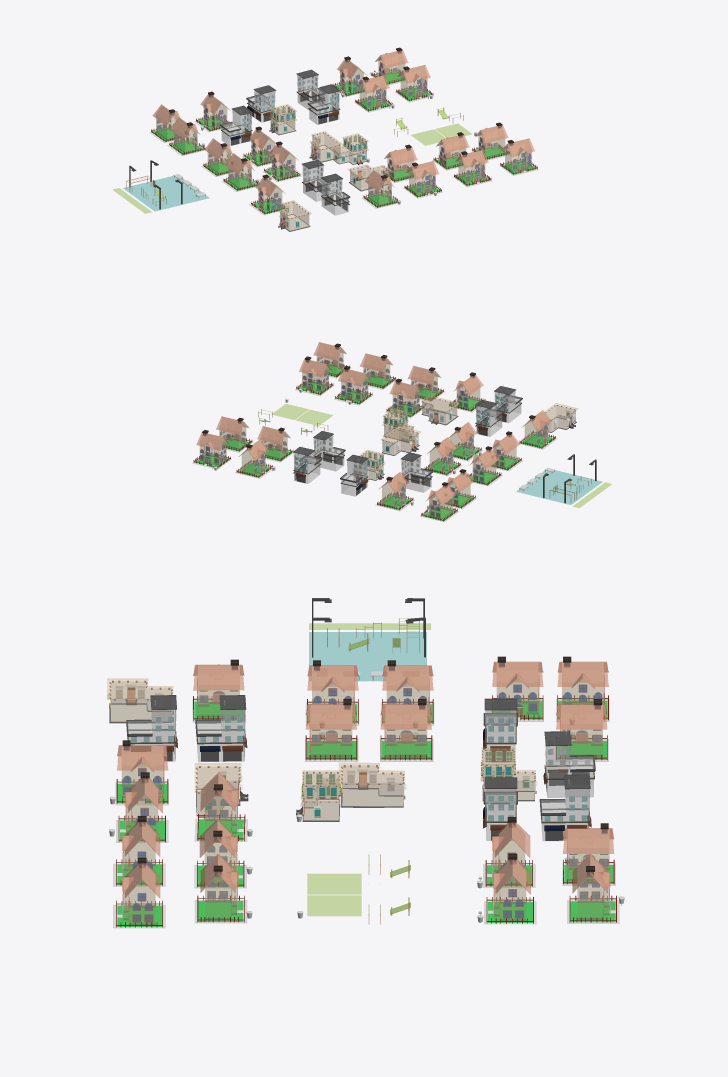
File: City.glb
3 views of the same model, one above another, from view 1: azimuth 30°, elevation 25°; view 2: azimuth 150°, elevation 25°; view 3: azimuth 270°, elevation 25° (orthographic). The views are drawn at different scales.
Parts seen in each view (by area): view 1: Cube.703, Cube.019_Cube.013, Cube.019_Cube.002, Cube.019_Cube.000, Cube.019_Cube.012, Cube.019_Cube.014, Cube_Cube.007, Cube.019_Cube.011, Cube.019_Cube.010, Cube.019_Cube.007, Cube.019_Cube.005, Cube.019_Cube.015 (+20 smaller); view 2: Cube.703, Cube.019_Cube.020, Cube.019_Cube.001, Cube.019_Cube.011, Cube.019_Cube.016, Cube_Cube.000, Cube_Cube.003, Cube.019_Cube.013, Cube.019_Cube.017, Cube.019_Cube.009, Cube.019_Cube.003, Cube.019_Cube.008 (+20 smaller); view 3: Cube.703, Cube.019_Cube.007, Cube.019_Cube.006, Cube.019_Cube.012, Cube.019_Cube.000, Cube_Cube.006, Cube.019_Cube.011, Cube.019_Cube.001, Cube.019_Cube.008, Cube.019_Cube.010, Cube.019_Cube.017, Cube.019_Cube.015 (+20 smaller).
Boxes of the visible parts, bbox=[...] form: Cube.703: bbox=[112, 175, 209, 213]; Cube.019_Cube.013: bbox=[453, 150, 491, 187]; Cube.019_Cube.002: bbox=[354, 75, 392, 112]; Cube.019_Cube.000: bbox=[395, 65, 433, 102]; Cube.019_Cube.012: bbox=[499, 138, 538, 175]; Cube.019_Cube.014: bbox=[403, 161, 442, 198]; Cube_Cube.007: bbox=[320, 173, 350, 215]; Cube.019_Cube.011: bbox=[471, 122, 509, 160]; Cube.019_Cube.010: bbox=[167, 117, 205, 155]; Cube.019_Cube.007: bbox=[263, 141, 301, 181]; Cube.019_Cube.005: bbox=[222, 153, 259, 191]; Cube.019_Cube.015: bbox=[362, 170, 397, 208]; Cube.703: bbox=[516, 470, 611, 507]; Cube.019_Cube.020: bbox=[334, 366, 372, 405]; Cube.019_Cube.001: bbox=[192, 430, 231, 469]; Cube.019_Cube.011: bbox=[295, 356, 333, 395]; Cube.019_Cube.016: bbox=[386, 378, 423, 418]; Cube_Cube.000: bbox=[313, 431, 345, 471]; Cube_Cube.003: bbox=[401, 452, 433, 492]; Cube.019_Cube.013: bbox=[360, 353, 396, 389]; Cube.019_Cube.017: bbox=[518, 410, 556, 449]; Cube.019_Cube.009: bbox=[420, 482, 458, 522]; Cube.019_Cube.003: bbox=[235, 439, 272, 478]; Cube.019_Cube.008: bbox=[376, 472, 414, 510]; Cube.703: bbox=[309, 623, 430, 681]; Cube.019_Cube.007: bbox=[305, 699, 358, 761]; Cube.019_Cube.006: bbox=[380, 699, 433, 761]; Cube.019_Cube.012: bbox=[113, 857, 165, 928]; Cube.019_Cube.000: bbox=[484, 853, 536, 924]; Cube_Cube.006: bbox=[339, 763, 406, 807]; Cube.019_Cube.011: bbox=[194, 854, 247, 923]; Cube.019_Cube.001: bbox=[567, 854, 619, 923]; Cube.019_Cube.008: bbox=[555, 699, 608, 761]; Cube.019_Cube.010: bbox=[491, 656, 543, 721]; Cube.019_Cube.017: bbox=[192, 659, 246, 722]; Cube.019_Cube.015: bbox=[115, 740, 168, 805].
Size of the model in its own units: 10.01 by 0.6605 by 6.48.
